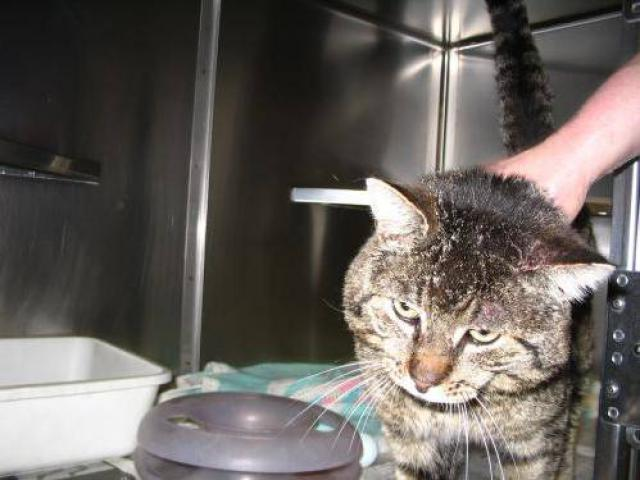cat: (341, 6, 640, 479)
